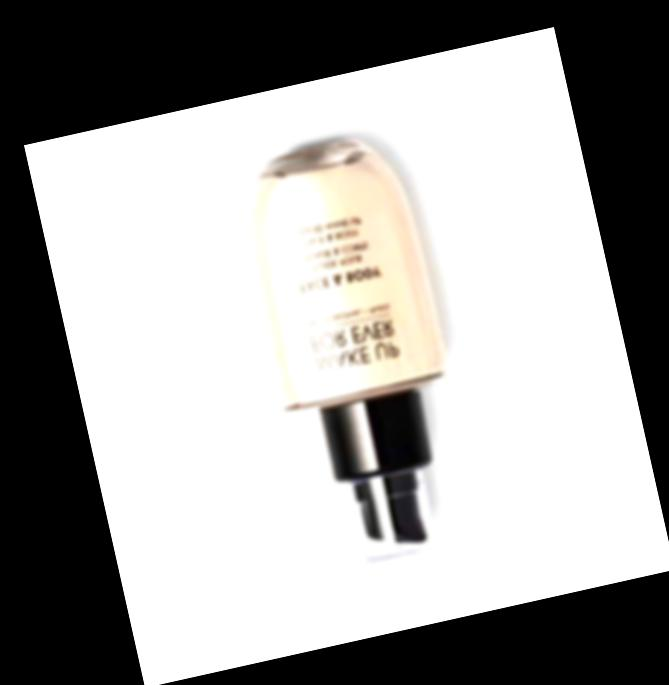cosmetic: (227, 125, 489, 575)
